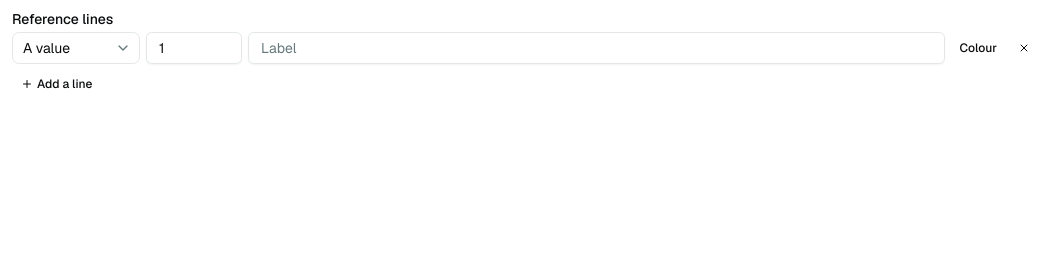
ReferenceLinesEditor › offers Forecast to a line of a chart that can draw one
Click the dropdown named "Line 1 kind". click: click(76, 48)
box: [12,32,140,64]
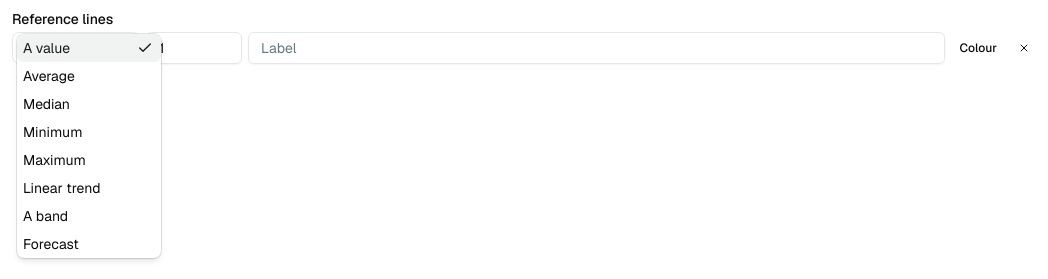
Result: the number of options "Forecast" is 1 at [23,235,79,253]
